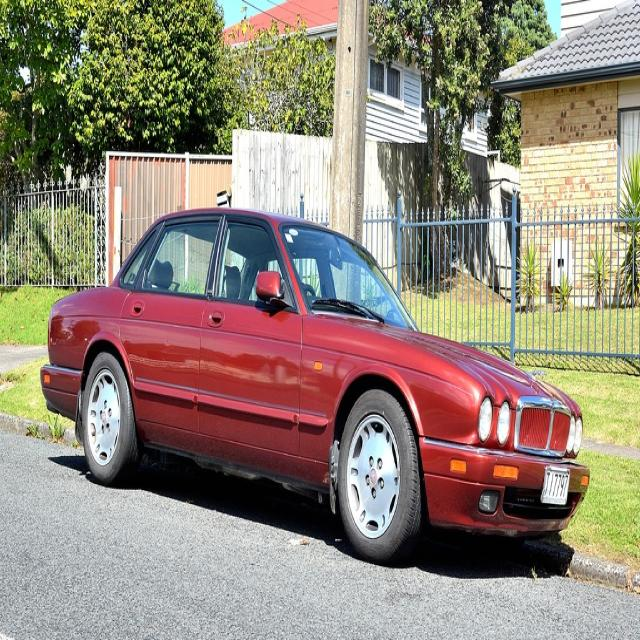car: (38, 205, 591, 562)
